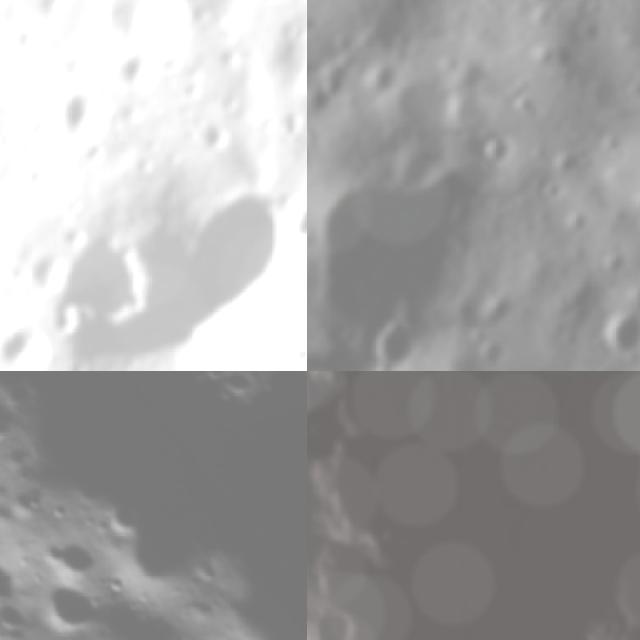crater: (307, 371, 640, 640), (307, 94, 528, 371), (190, 174, 307, 334), (31, 203, 156, 342), (384, 54, 471, 145), (414, 337, 592, 371), (29, 571, 105, 640), (354, 0, 429, 68), (354, 308, 432, 371), (585, 291, 640, 371), (436, 84, 496, 144), (56, 79, 112, 143), (44, 528, 99, 584), (474, 122, 527, 176), (0, 320, 52, 371), (360, 51, 410, 104), (589, 237, 638, 286), (570, 7, 616, 54), (8, 476, 54, 523), (0, 535, 25, 619), (112, 43, 158, 88), (476, 284, 522, 329), (307, 600, 357, 640), (592, 122, 635, 166), (531, 171, 573, 213), (472, 330, 515, 371), (192, 114, 236, 154), (522, 0, 565, 39), (546, 36, 584, 76), (187, 551, 225, 590), (219, 371, 263, 404), (325, 26, 360, 61), (278, 105, 307, 147), (0, 596, 27, 636), (577, 0, 611, 29), (307, 41, 321, 105), (307, 130, 320, 191), (294, 200, 307, 253), (0, 404, 14, 447), (193, 371, 233, 386), (544, 0, 583, 10)
